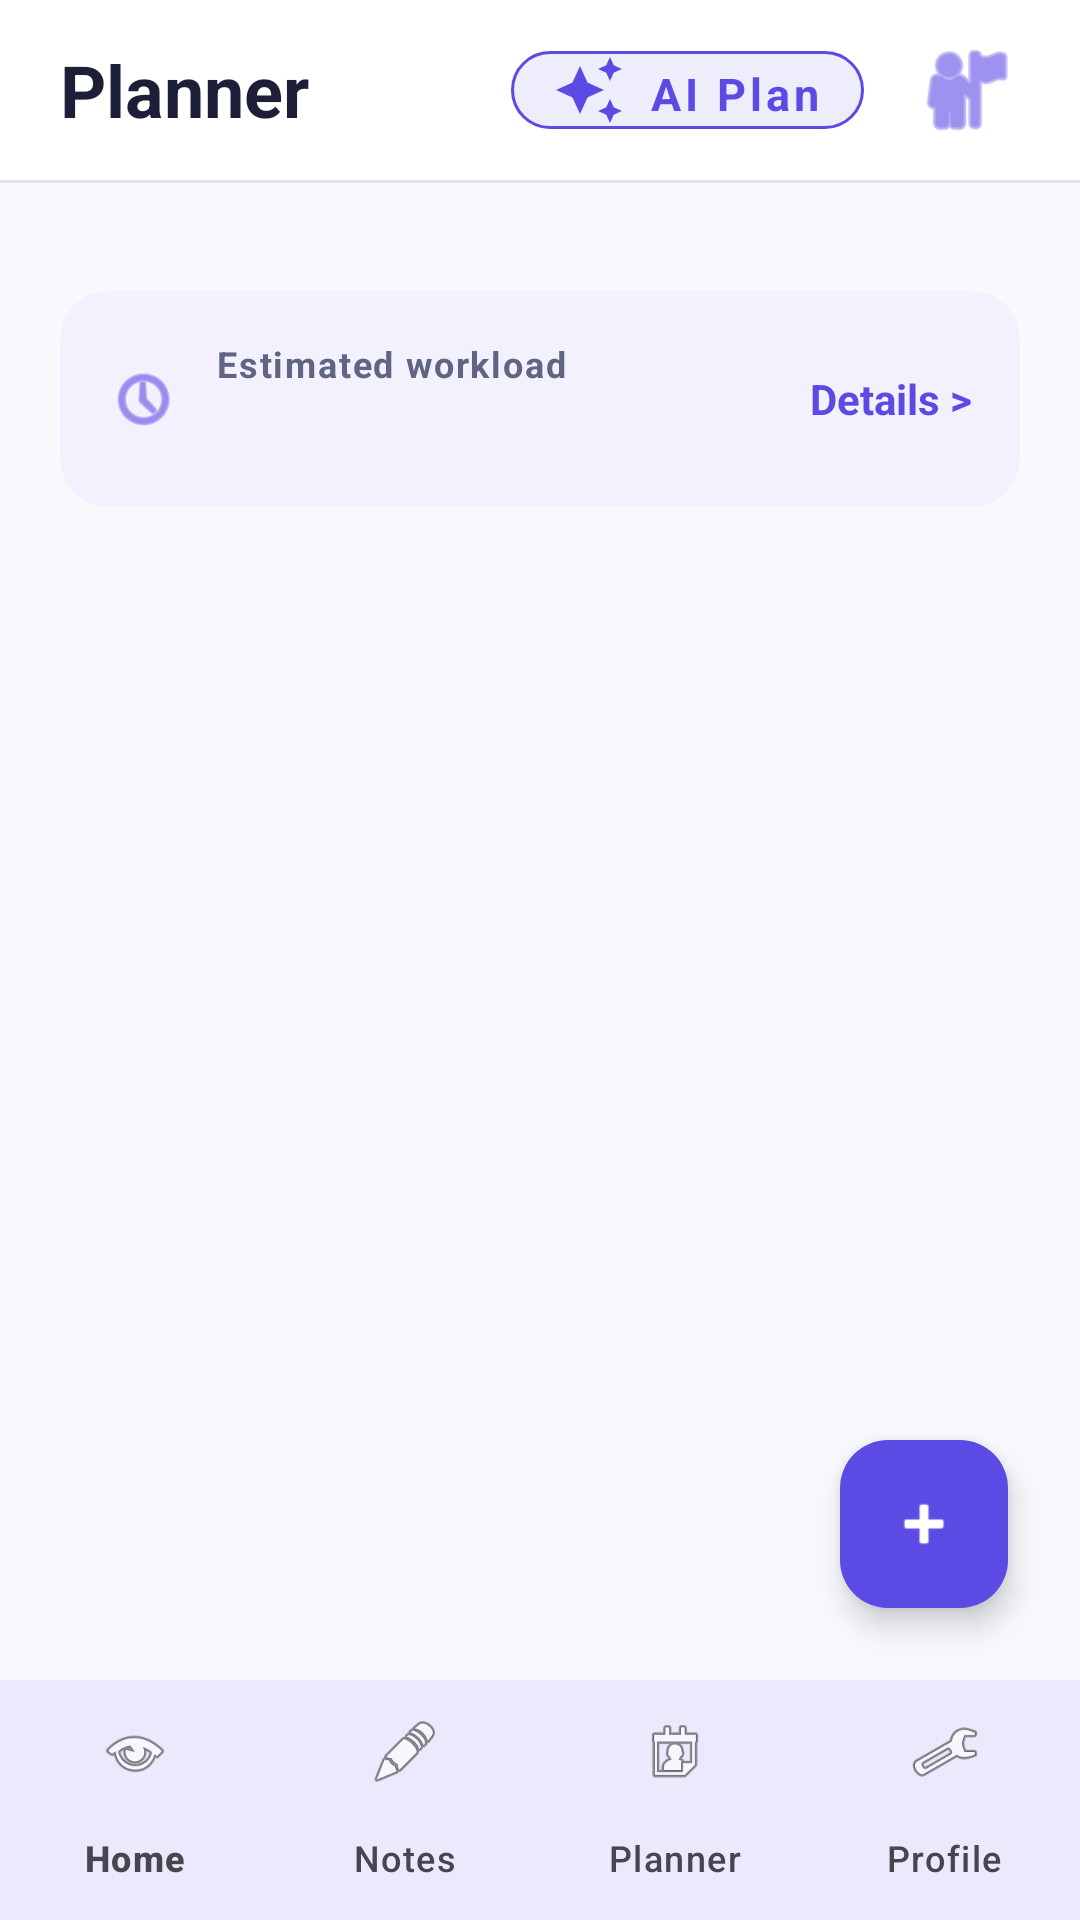

Screen size 1080px×1920px. Icon name, then its box in pixels as Rect(x1, y1, x2, y2):
Add new task: Rect(840, 1440, 1008, 1608)
Profile avatar: Rect(927, 50, 1008, 130)
